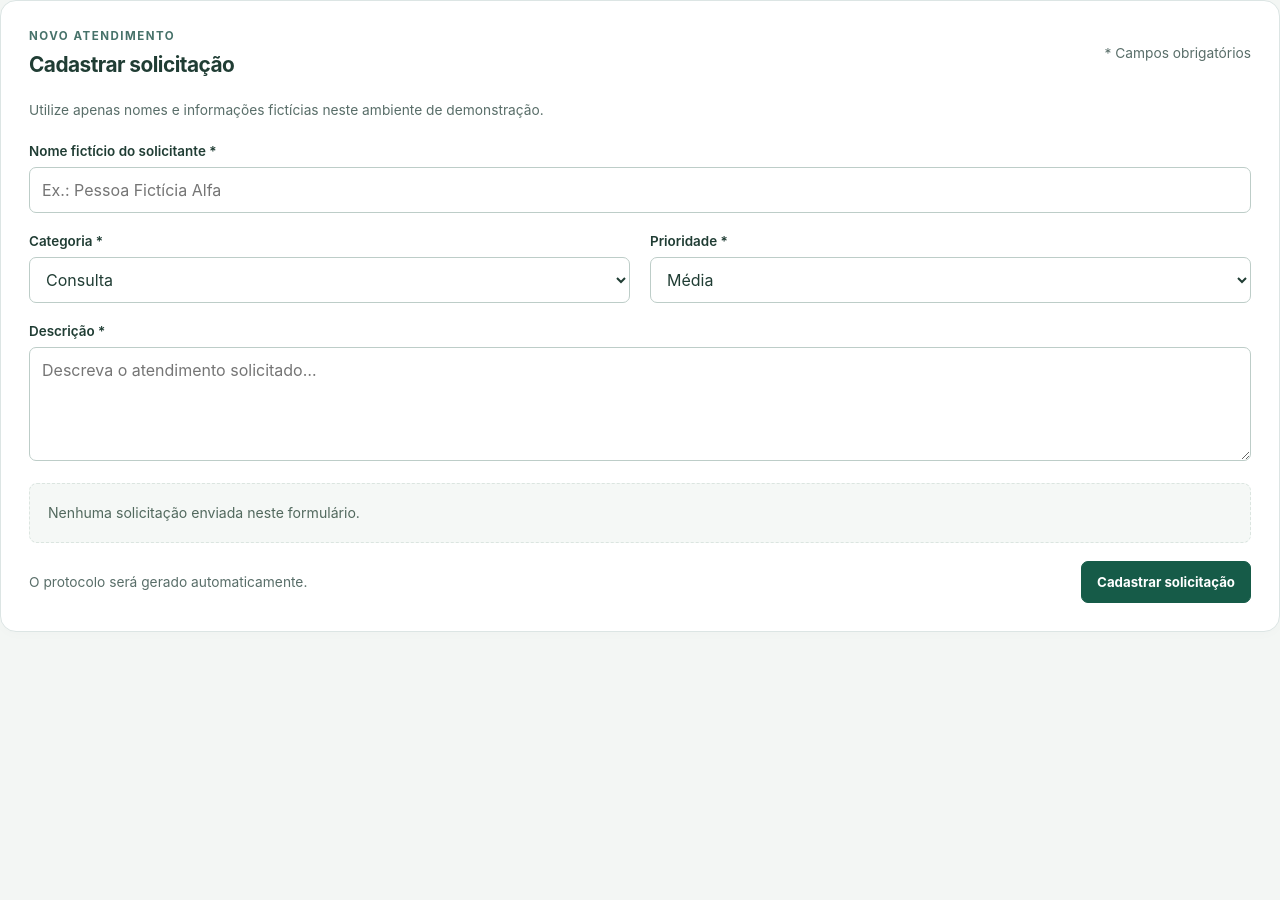
Test: SolicitacaoForm › valida em tempo real e exige justificativa dinâmica para URGENTE
Expected: the text "Nenhuma solicitação enviada neste formulário." is shown, [48,502,360,524]
Expected: the field labelled "Justificativa" is not shown
Type "Pessoa Fictícia Alfa" into the field labelled "Nome fictício do solicitante *".
click(640, 190); type("Pessoa Fictícia Alfa")  # box [29,167,1251,213]
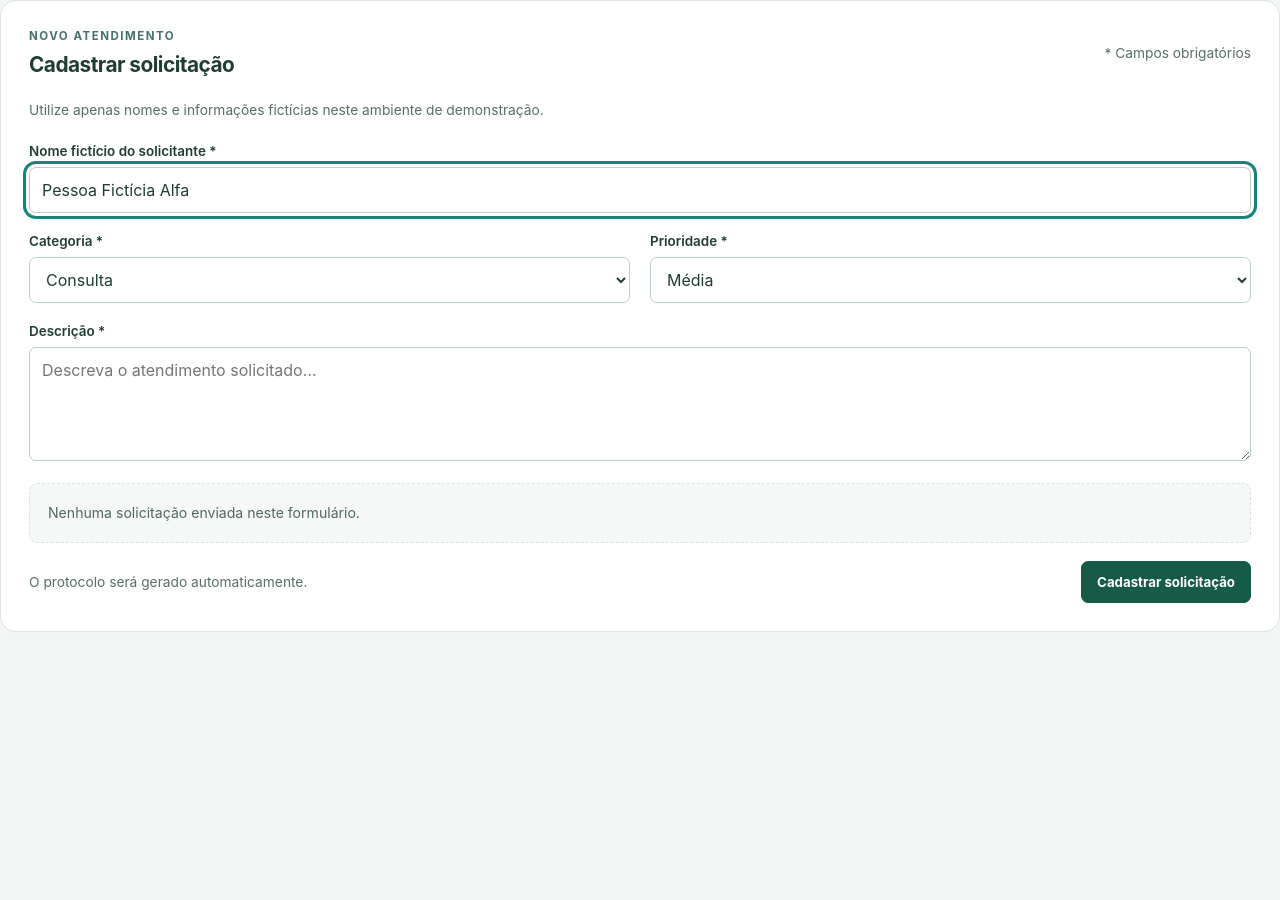
Type "Atendimento fictício." into the text box labelled "Descrição *".
click(640, 404); type("Atendimento fictício.")  # box [29,347,1251,461]
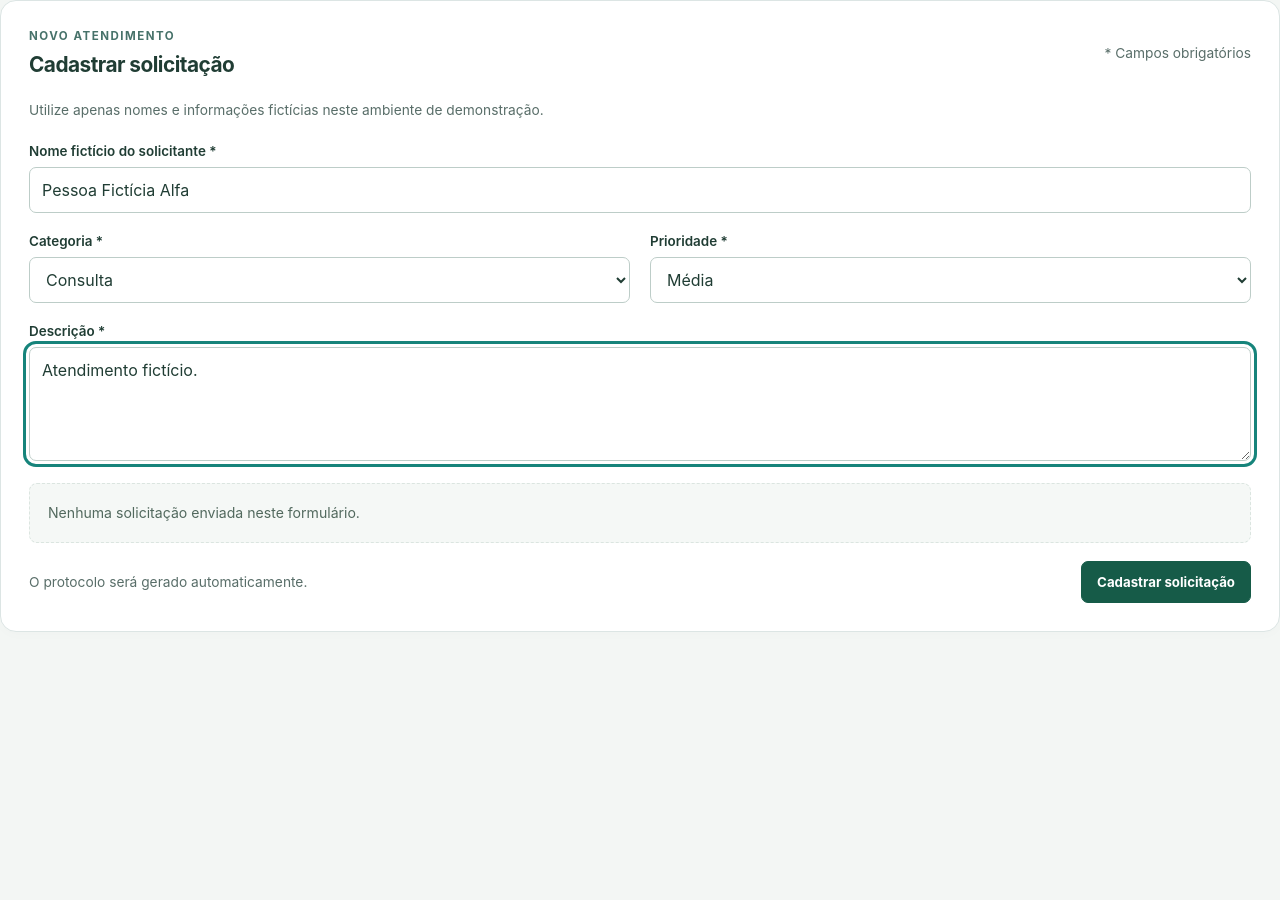
Select "Urgente" in the dropdown labelled "Prioridade *" at (950, 280), box [650,257,1251,303]
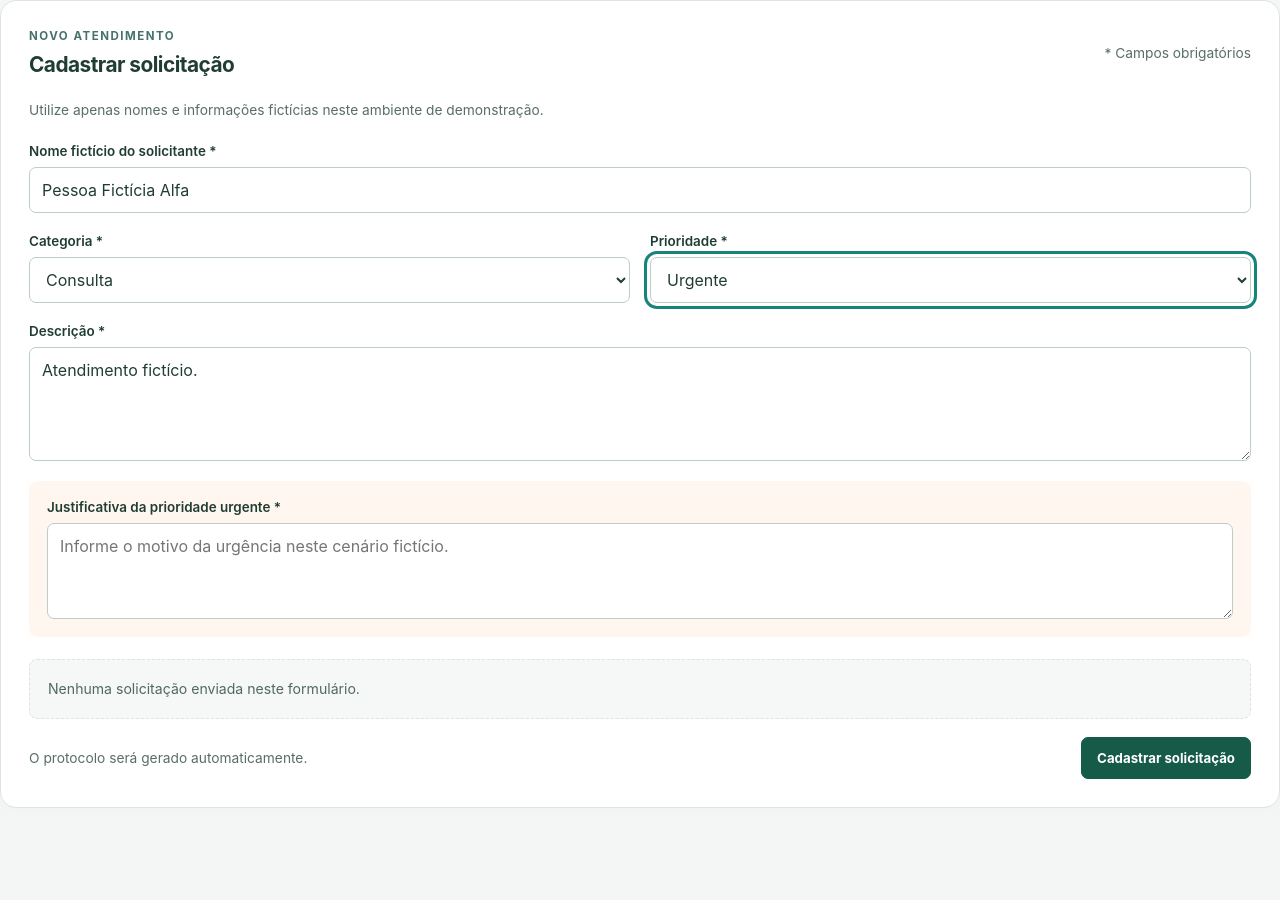
Click the button "Cadastrar solicitação".
click(1166, 758)  # box [1081,738,1251,780]
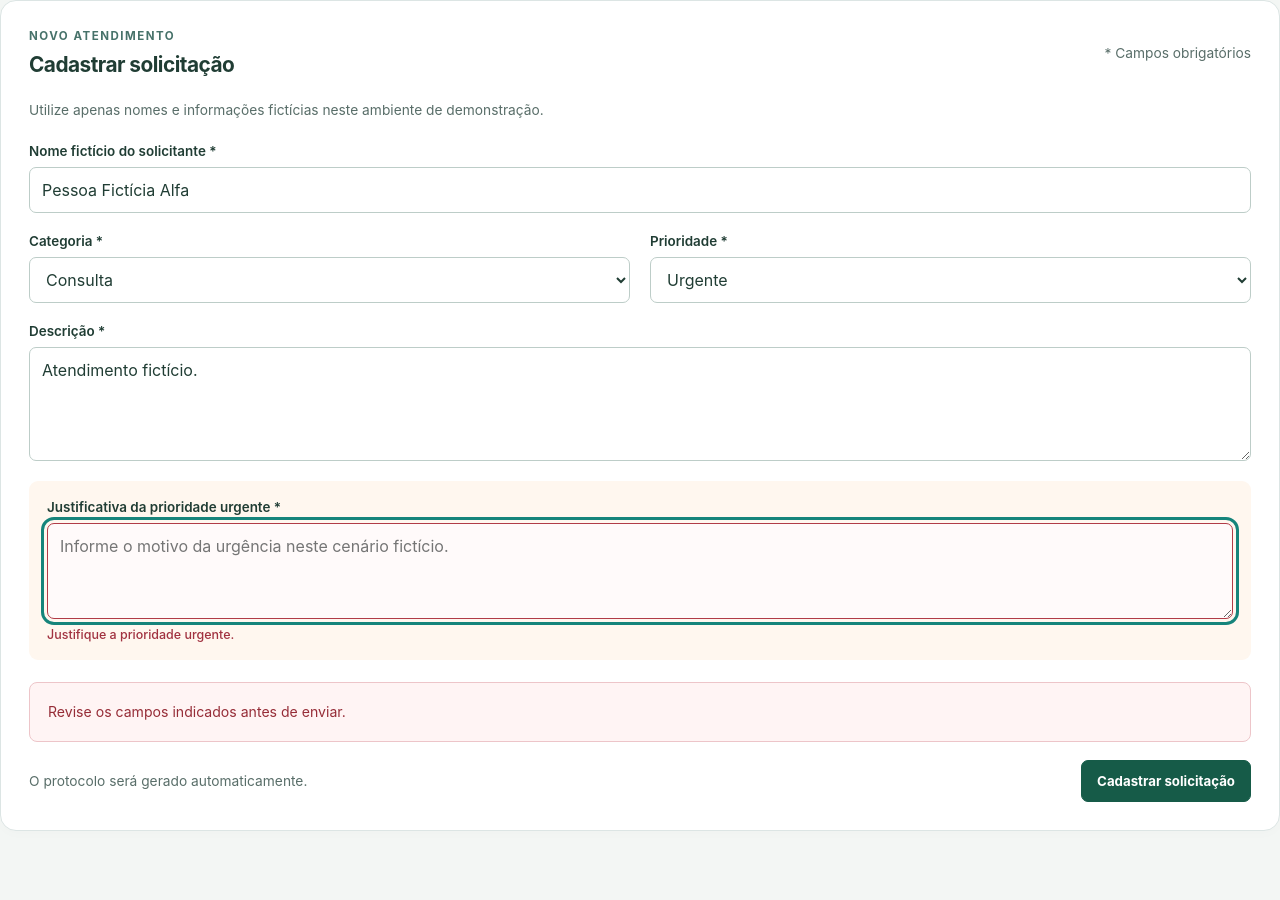
Result: the text "Justifique a prioridade urgente." is shown at [47,627,234,642]
Type "Motivo fictício." into the text box labelled "Justificativa da prioridade urgente *".
click(640, 571); type("Motivo fictício.")  # box [47,523,1233,619]
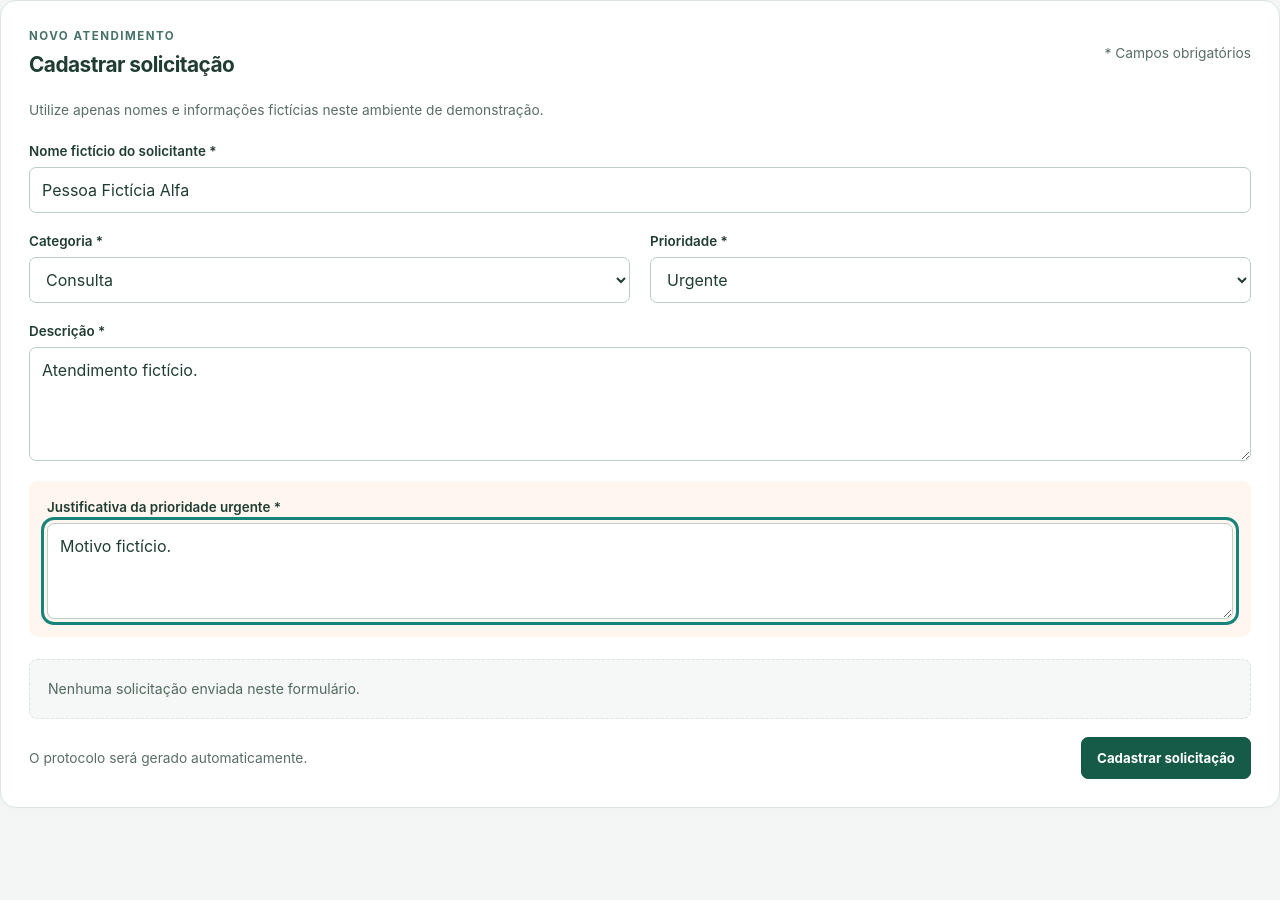
Result: the text "Justifique a prioridade urgente." is gone
Click the button "Cadastrar solicitação".
click(1166, 758)  # box [1081,738,1251,780]
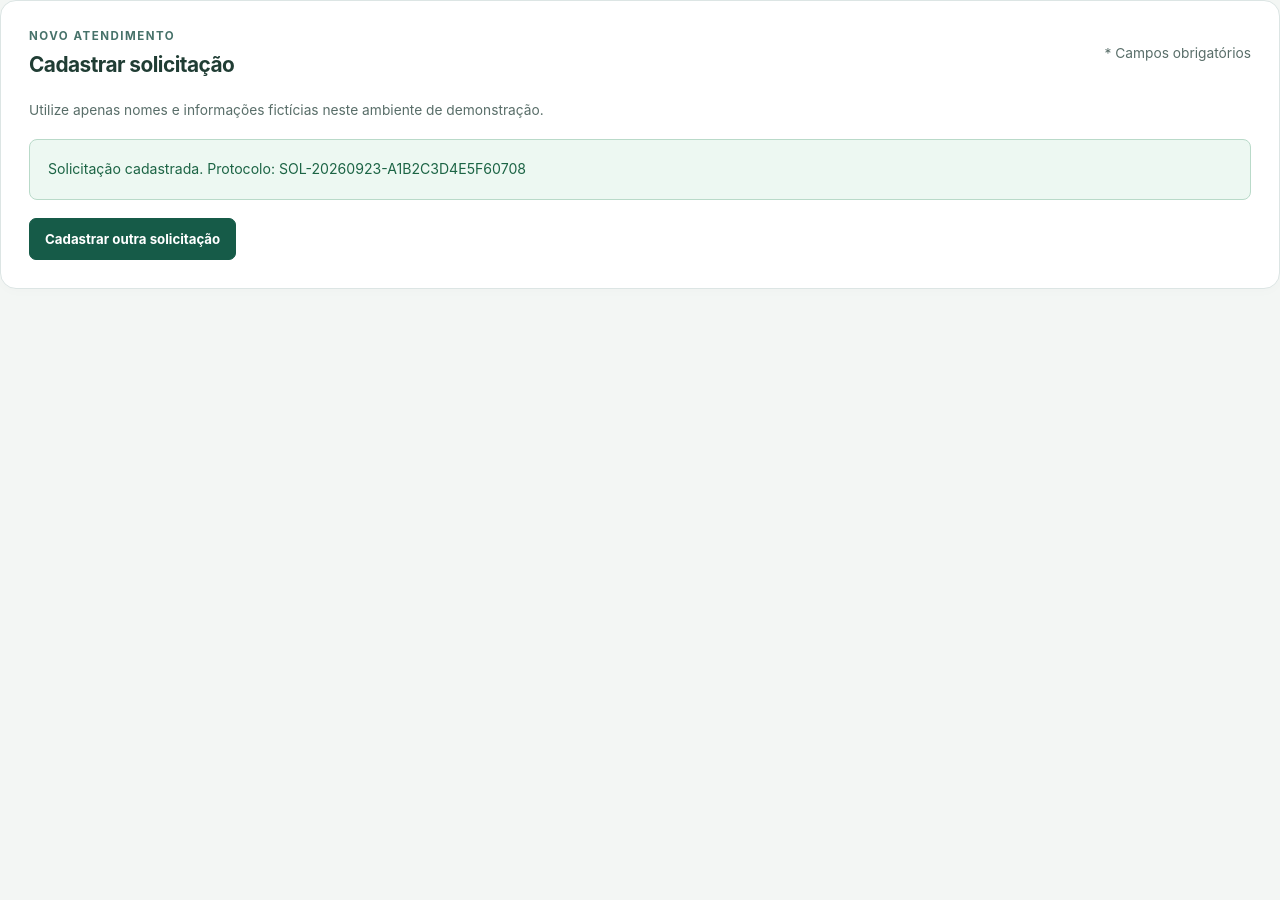
Result: the text "Solicitação cadastrada. Protocolo:" is shown at [48,160,526,177]
